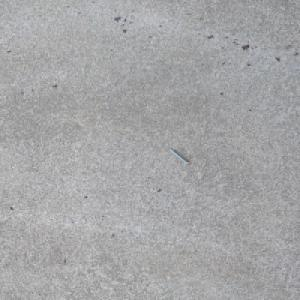Screw: (168, 147, 191, 164)
